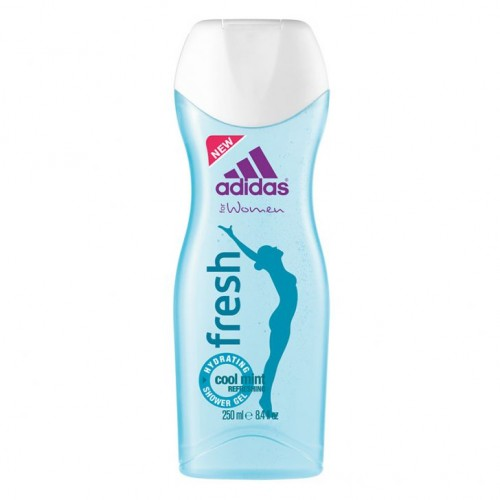Adidas: (215, 140, 294, 201)
